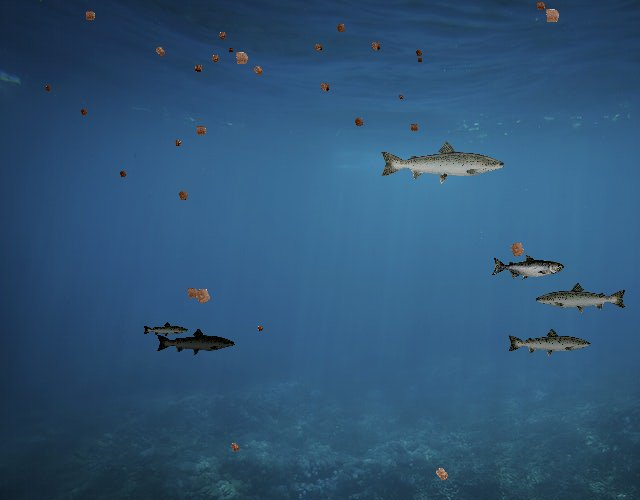Fish: (378, 139, 507, 185), (535, 282, 629, 316), (506, 327, 592, 358), (156, 328, 237, 357), (491, 254, 564, 281), (143, 322, 190, 338)
Pellet: (188, 280, 218, 310), (428, 460, 455, 487), (181, 282, 204, 305), (366, 37, 385, 56), (226, 438, 243, 456), (170, 136, 185, 151), (116, 167, 130, 181), (254, 322, 266, 334)
